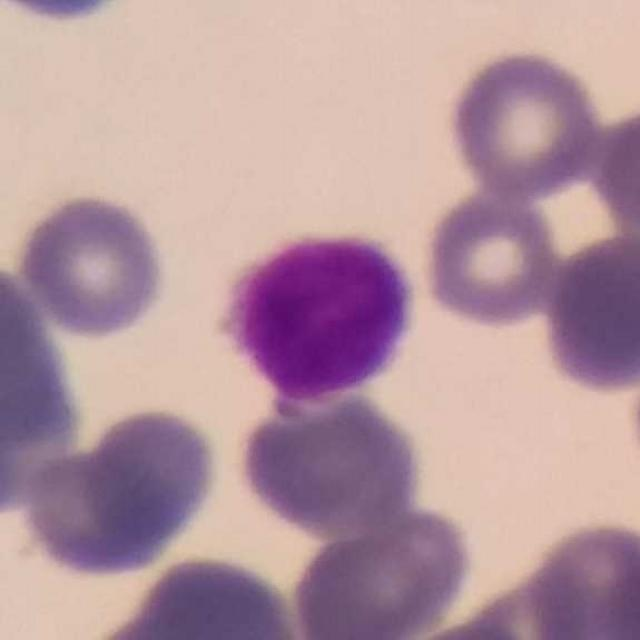Lymphocyte: (208, 222, 425, 406)
RBC: (20, 402, 227, 581), (230, 375, 428, 541), (0, 248, 90, 537), (443, 46, 608, 202), (288, 505, 477, 640), (10, 188, 173, 342), (79, 548, 315, 640), (418, 187, 564, 332), (538, 228, 640, 396), (521, 516, 639, 639), (447, 570, 608, 639), (592, 97, 640, 250), (4, 0, 124, 34), (381, 615, 542, 640)
